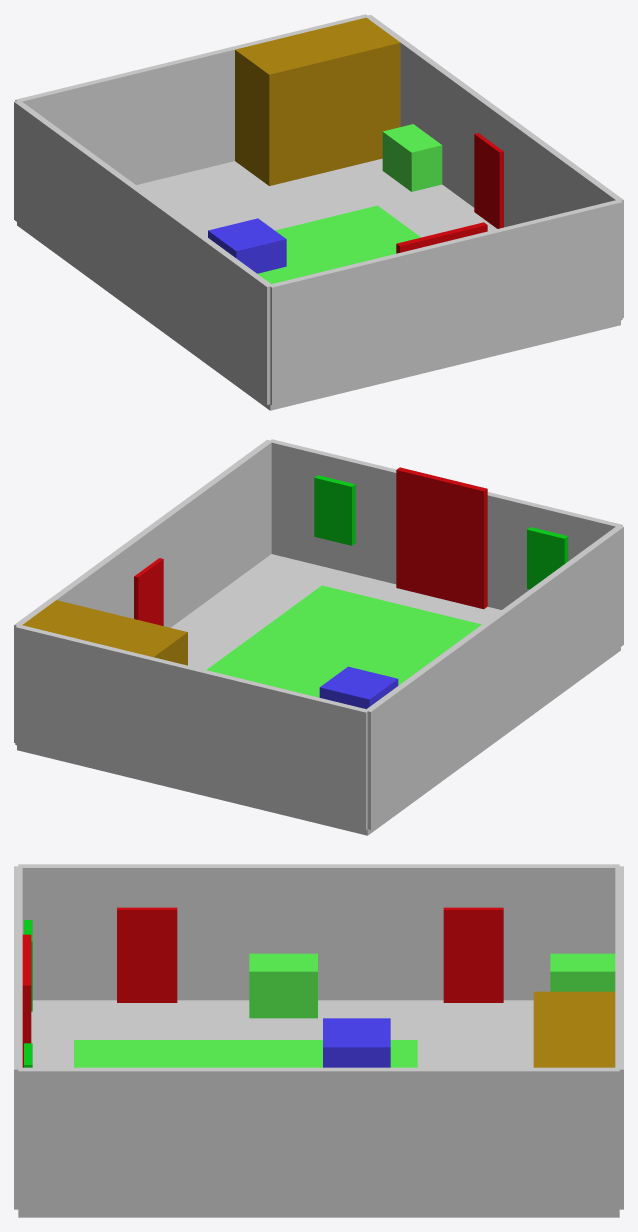
The model's file is Official_Scene_8_SecondFloor.gltf.
3 renders of one model, top to bottom at view 1: azimuth 30°, elevation 25°; view 2: azimuth 150°, elevation 25°; view 3: azimuth 270°, elevation 25°, orthographic. The views are drawn at different scales.
Visible parts, largest first — view 1: Ground2; view 2: Ground2; view 3: Ground2.
Boxes of the visible parts, x1,y1,x2,y2 form: Ground2: [14, 14, 623, 410]; Ground2: [14, 439, 623, 835]; Ground2: [14, 864, 623, 1217].
Size of the model in its own units: 57 by 20 by 71.
